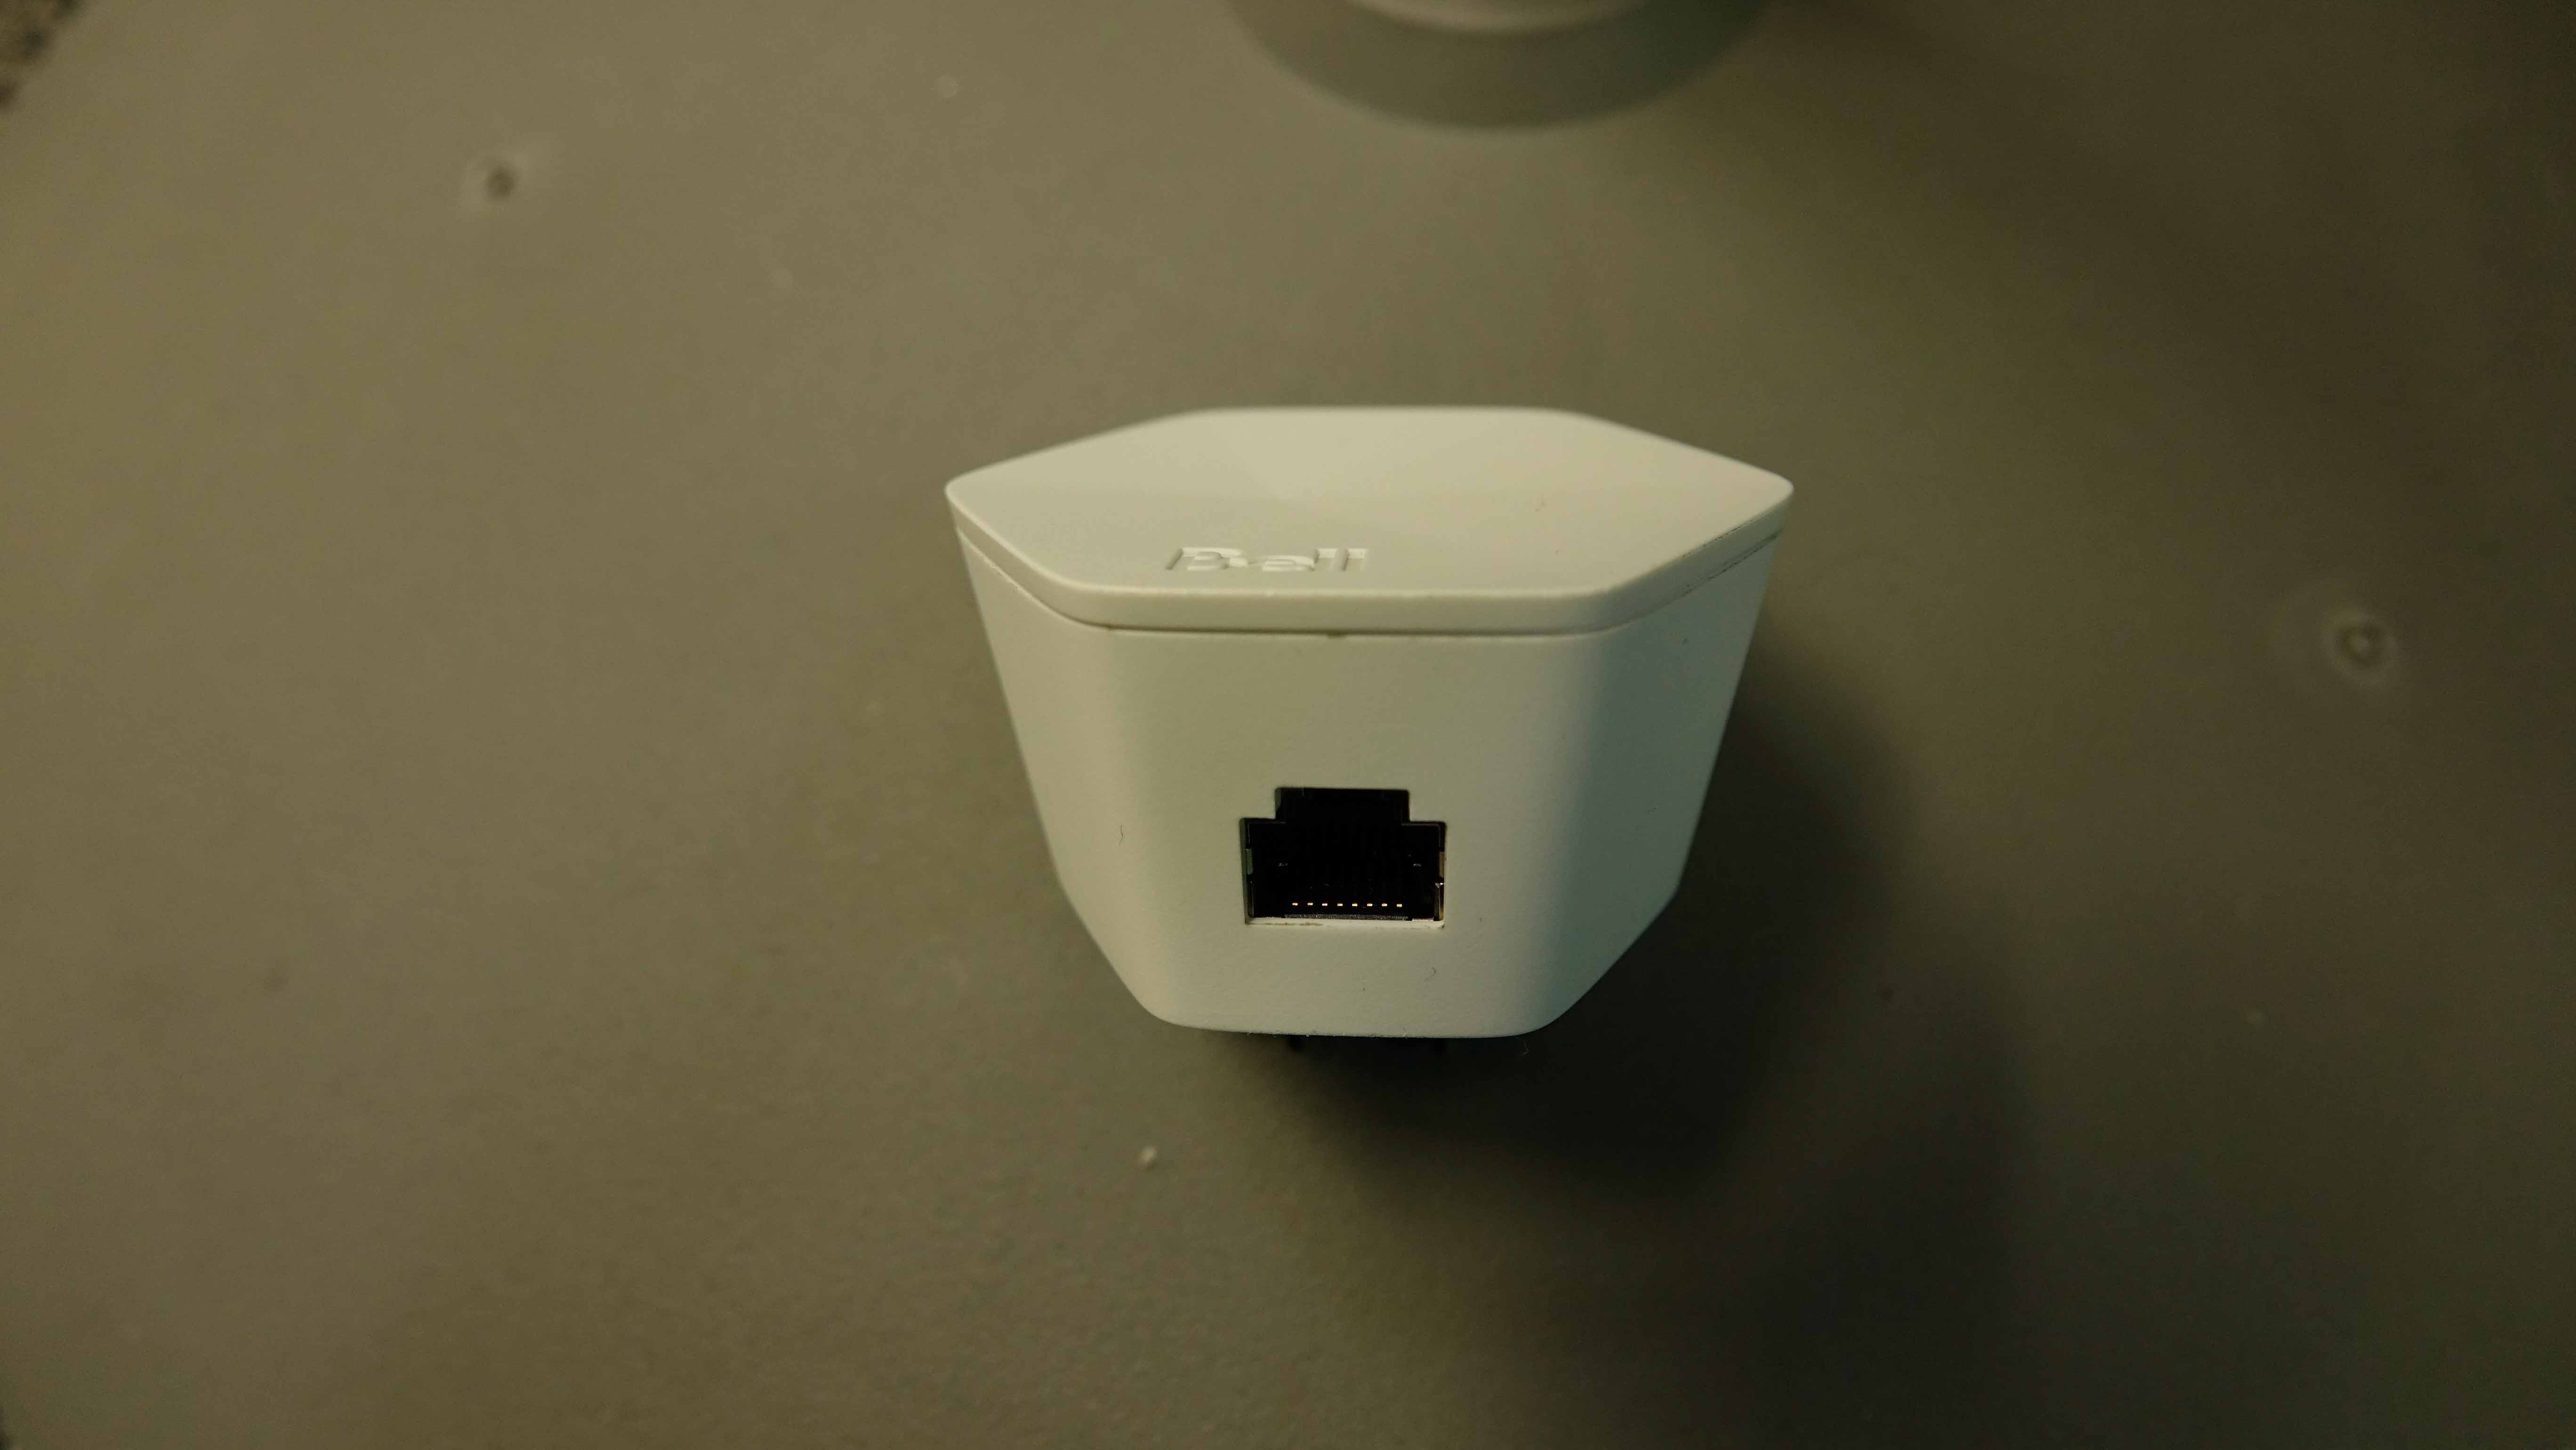pod: (927, 389, 1810, 1079)
